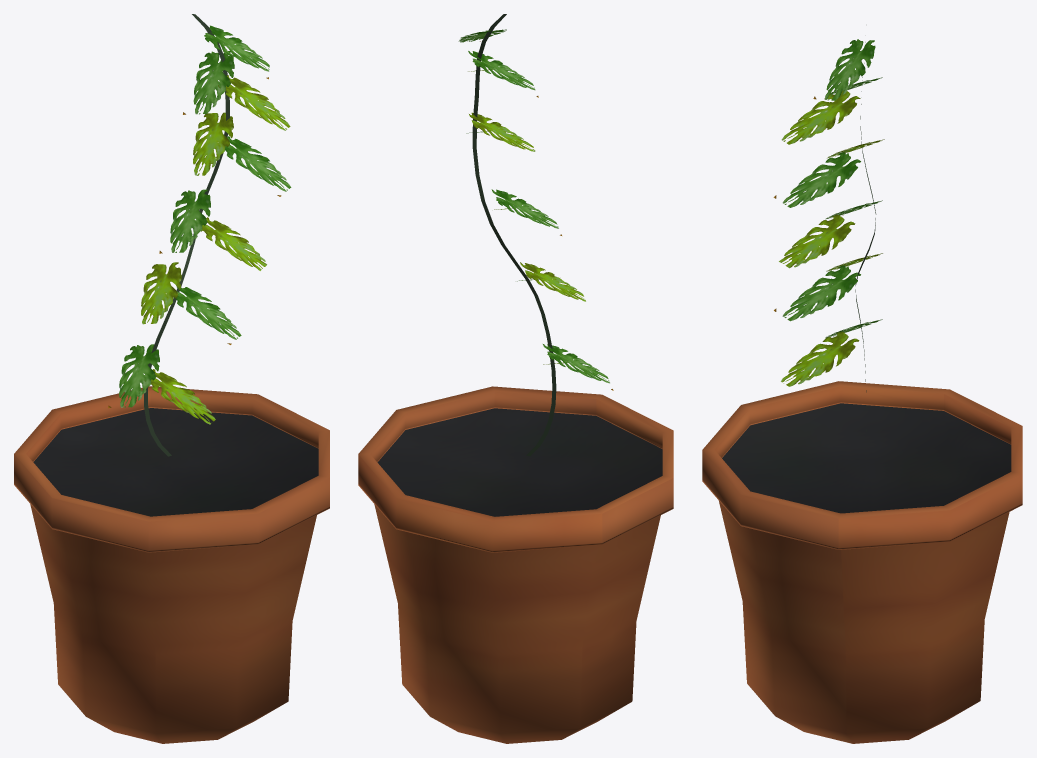
Rendered from planta.fbx.
The picture shows the model from 3 angles, left to right: view 1: azimuth 30°, elevation 25°; view 2: azimuth 150°, elevation 25°; view 3: azimuth 270°, elevation 25°; orthographic projection.
Parts seen in each view (by area): view 1: Planta; view 2: Planta; view 3: Planta.
Part boxes in pixels (box(x1,y1,x2,y2)): Planta: box(14, 14, 329, 743); Planta: box(358, 14, 673, 743); Planta: box(702, 39, 1022, 743).
Size of the model in its own units: 17.41 by 41.5 by 17.15.
